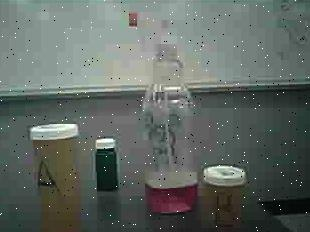Bottle A: (20, 116, 91, 232)
Bottle B: (203, 157, 252, 232)
Bottle C: (94, 132, 124, 198)
hazard: (122, 9, 202, 219)
